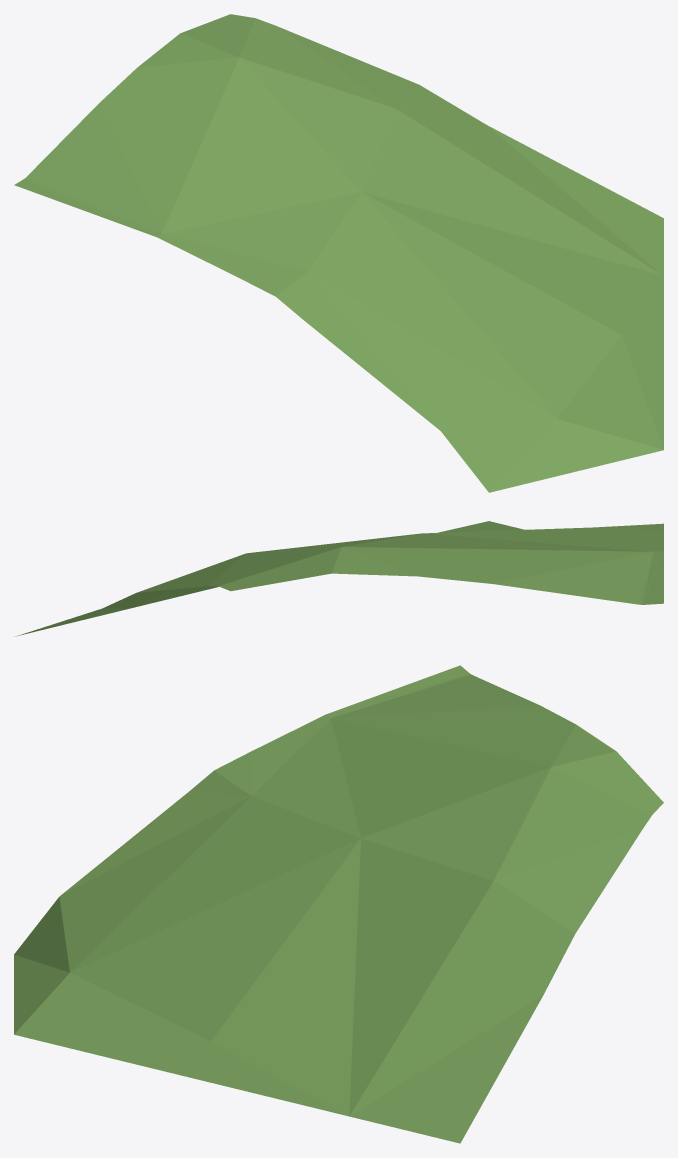
The model's file is BridgeEdge.L.A1.1.R.D0.1.fbx.
The picture shows the model from 3 angles, top to bottom: view 1: azimuth 30°, elevation 25°; view 2: azimuth 150°, elevation 25°; view 3: azimuth 270°, elevation 25°; orthographic projection. The views are drawn at different scales.
Parts seen in each view (by area): view 1: BridgeEdge_L_A1_1_R_D0_1; view 2: BridgeEdge_L_A1_1_R_D0_1; view 3: BridgeEdge_L_A1_1_R_D0_1.
Part boxes in pixels (x1,y1,x2,y2): BridgeEdge_L_A1_1_R_D0_1: (14, 14, 663, 492); BridgeEdge_L_A1_1_R_D0_1: (15, 521, 663, 636); BridgeEdge_L_A1_1_R_D0_1: (14, 665, 663, 1143).
Bounding box in the file's own units: 0.4171 × 0.3844 × 0.1361.
